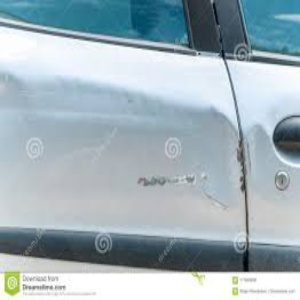door_scratch: (127, 157, 260, 206)
